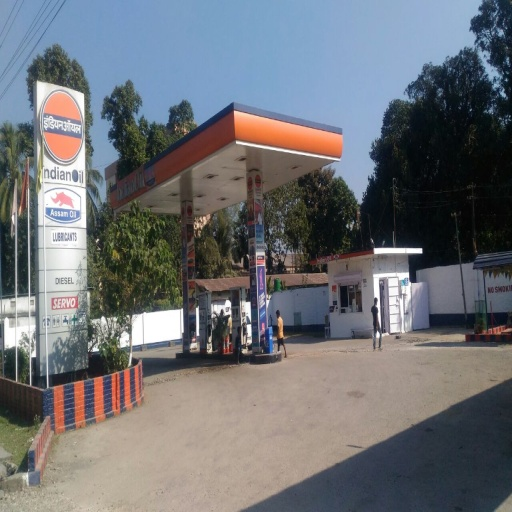roof: (107, 109, 339, 223)
